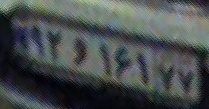character: (113, 40, 133, 83), (133, 46, 151, 92), (46, 25, 65, 68), (68, 33, 91, 68), (177, 60, 195, 101), (28, 23, 46, 62), (95, 40, 115, 75), (158, 60, 176, 95)
